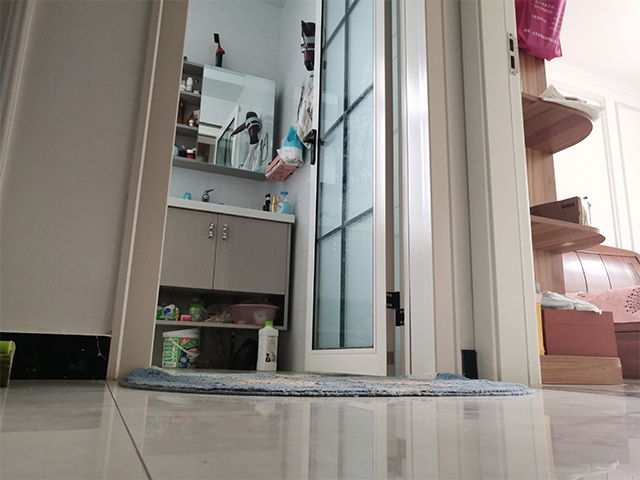carpet: (117, 366, 533, 400)
